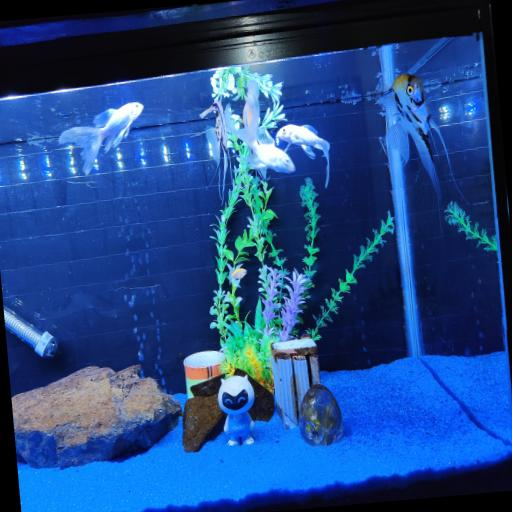Fish: (377, 74, 464, 201), (227, 81, 294, 176), (58, 103, 142, 175), (276, 125, 329, 187), (199, 100, 229, 199), (227, 264, 245, 287)
